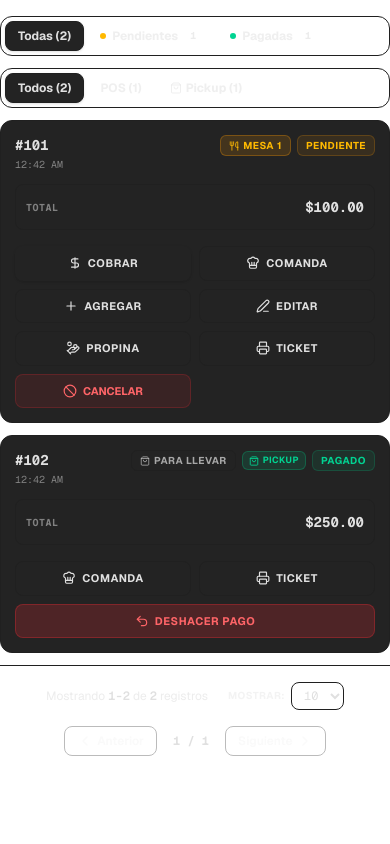
OrdersMobileFunction component › hides tip amount for paid order when user is Waiter and prompts authorization on undo
Click the button "Deshacer Pago". click: (195, 621)
box: [15, 604, 375, 638]
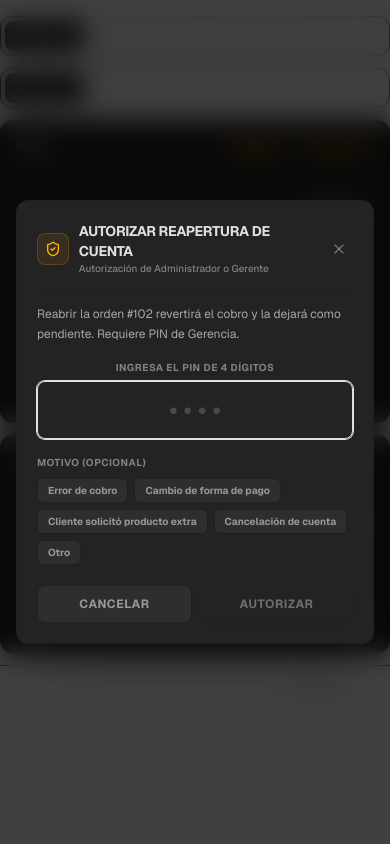
Expected: the heading "Autorizar Reapertura de Cuenta" is shown, [79, 222, 270, 260]
